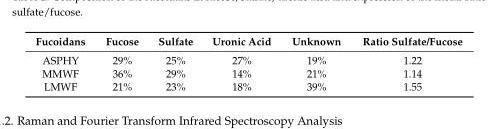table: (34, 34, 461, 92)
table column: (351, 34, 461, 92), (201, 34, 280, 92), (280, 34, 351, 92), (34, 34, 94, 92), (147, 34, 201, 92), (94, 34, 147, 92)
table column header: (34, 34, 461, 50)
table row: (34, 34, 461, 50), (34, 50, 461, 66), (34, 66, 461, 79), (34, 79, 461, 92)
